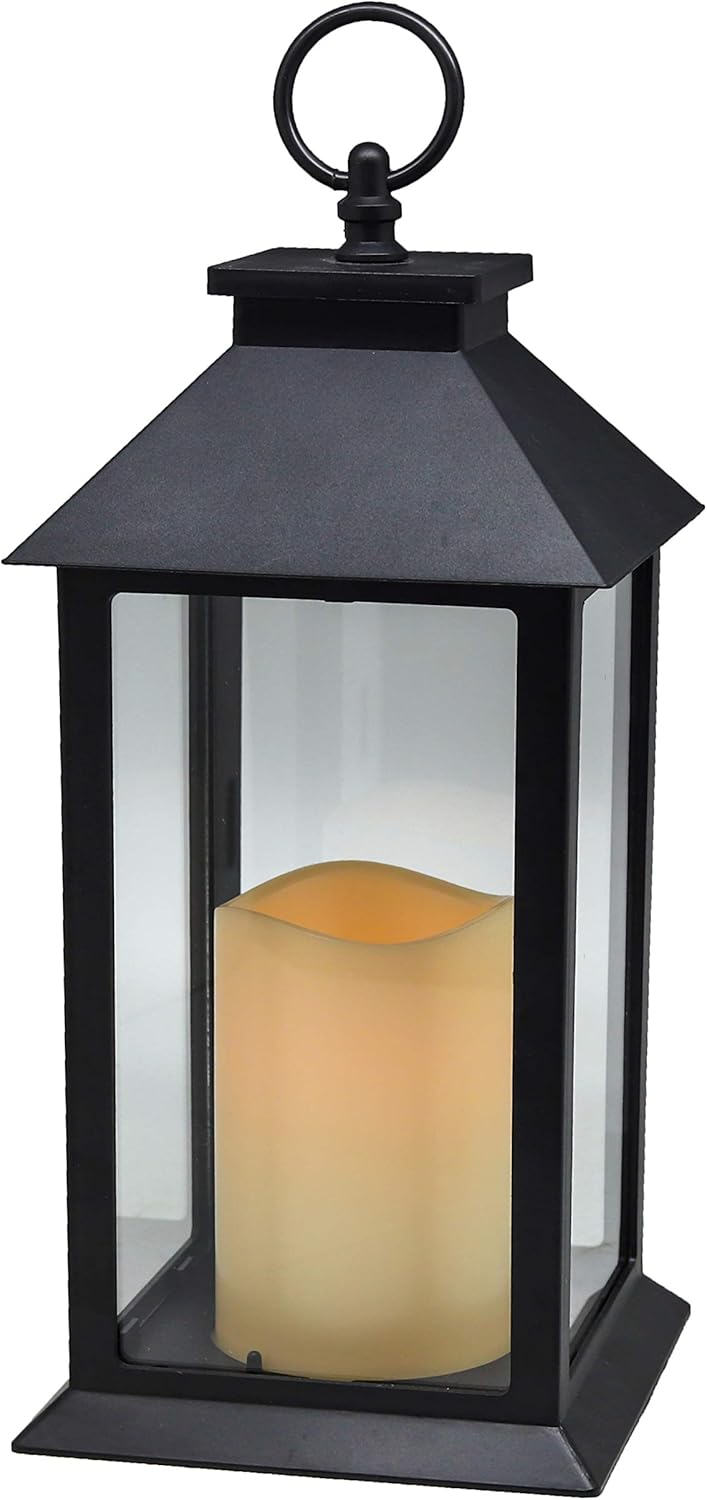Open-Flame-Hazard: (9, 2, 698, 1499)
